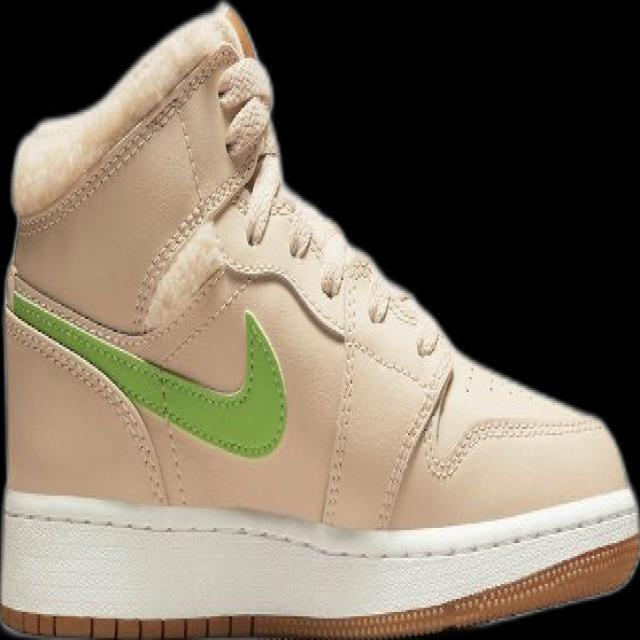J1_InsoleChar: (0, 1, 639, 639)
J1_ShoeLogo: (5, 268, 288, 460)
J1_StitchPattern: (133, 95, 454, 523), (0, 497, 638, 638), (16, 39, 240, 237), (1, 500, 638, 568), (316, 258, 451, 526), (2, 305, 171, 506), (130, 116, 282, 323), (448, 534, 637, 625), (422, 411, 608, 482), (318, 269, 364, 527)
